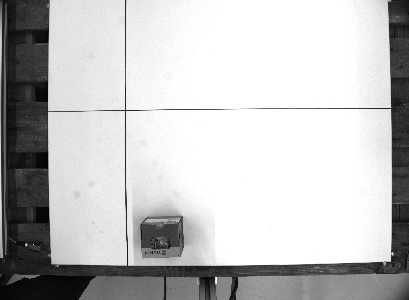b7: (137, 214, 187, 260)
